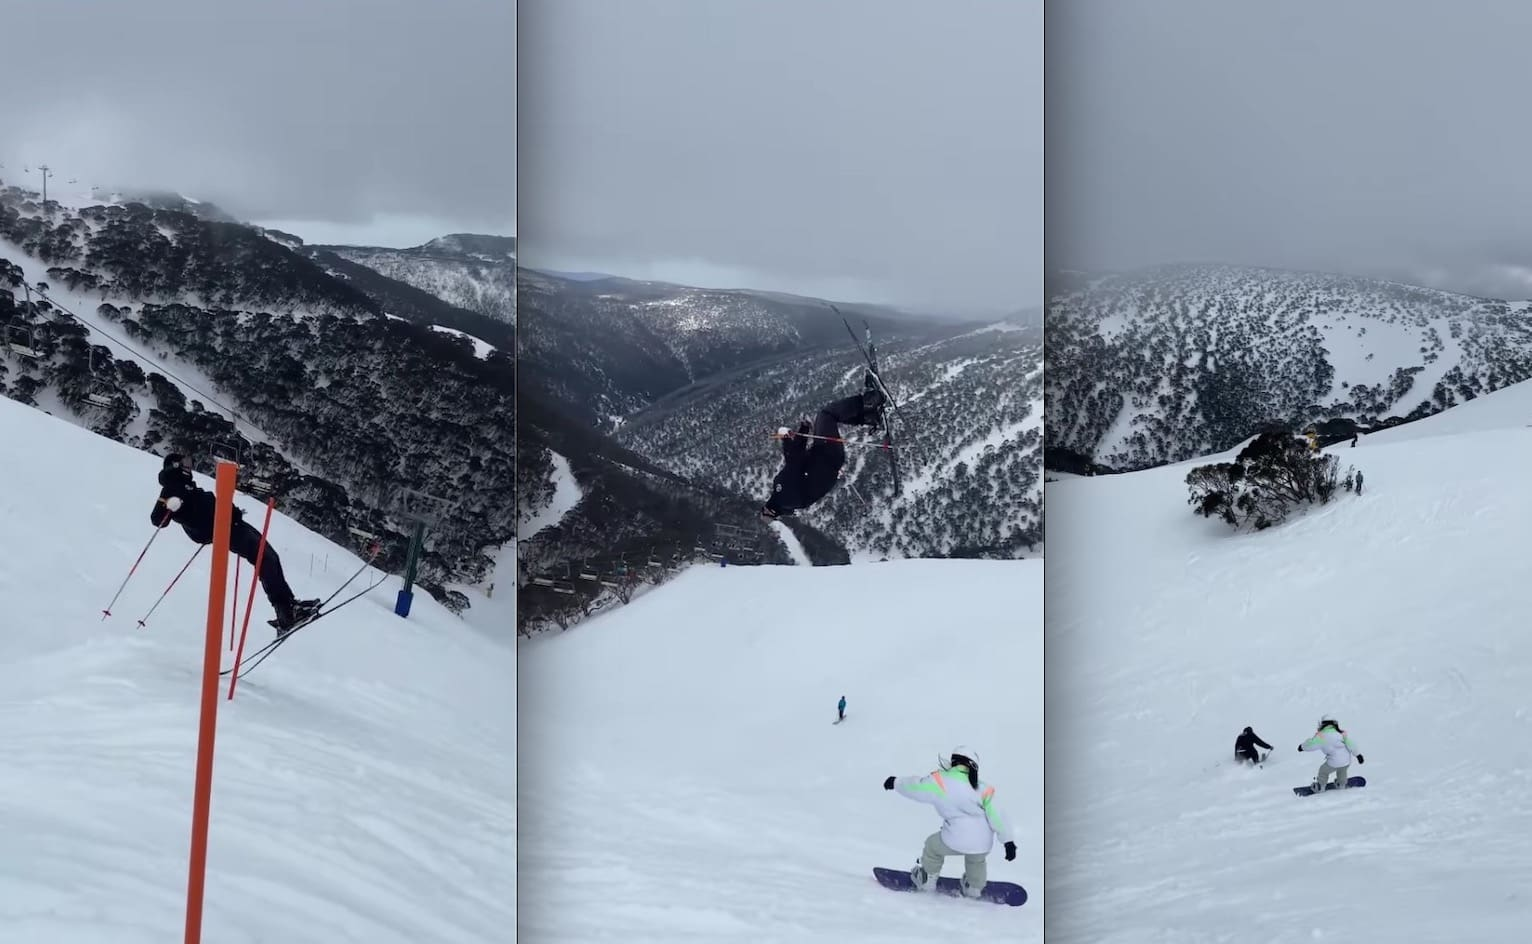skier: (104, 453, 390, 725), (1227, 716, 1285, 781)
snowboarder: (858, 732, 1048, 913), (1286, 710, 1379, 803), (824, 689, 856, 733)
